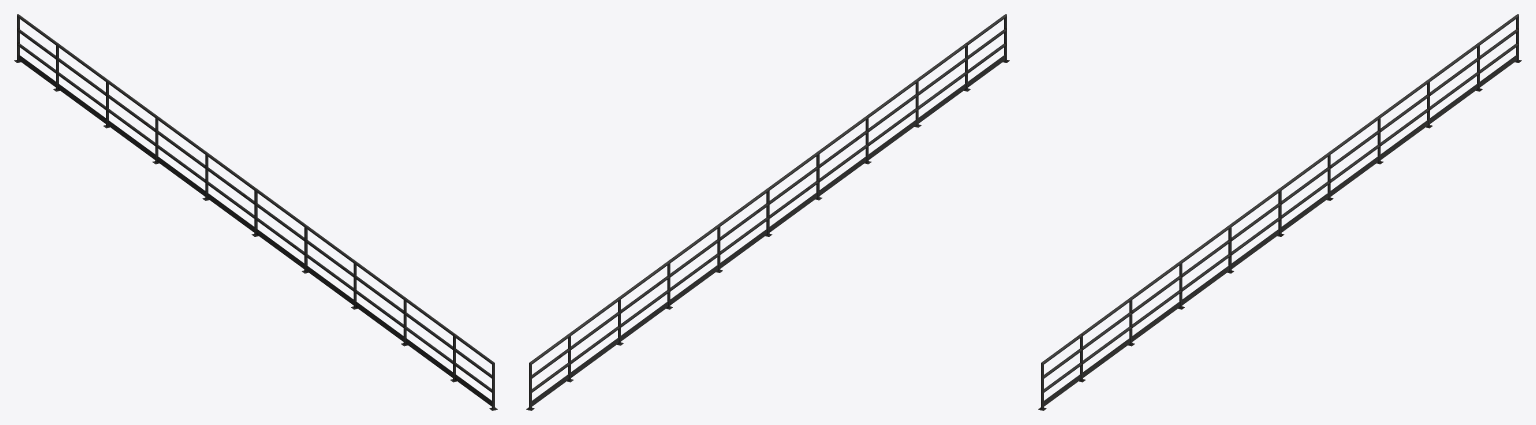
3 views of the same model, side by side, from view 1: azimuth 30°, elevation 25°; view 2: azimuth 150°, elevation 25°; view 3: azimuth 330°, elevation 25° (orthographic).
Visible parts, largest first — view 1: body0_model0_lod0_mesh0; view 2: body0_model0_lod0_mesh0; view 3: body0_model0_lod0_mesh0.
Part boxes in pixels (box(x1,y1,x2,y2)): body0_model0_lod0_mesh0: box(14, 14, 497, 410); body0_model0_lod0_mesh0: box(526, 14, 1009, 410); body0_model0_lod0_mesh0: box(1038, 14, 1521, 410).
Size of the model in its own units: 4.03 by 33.02 by 612.
1 material, 1 textured.
